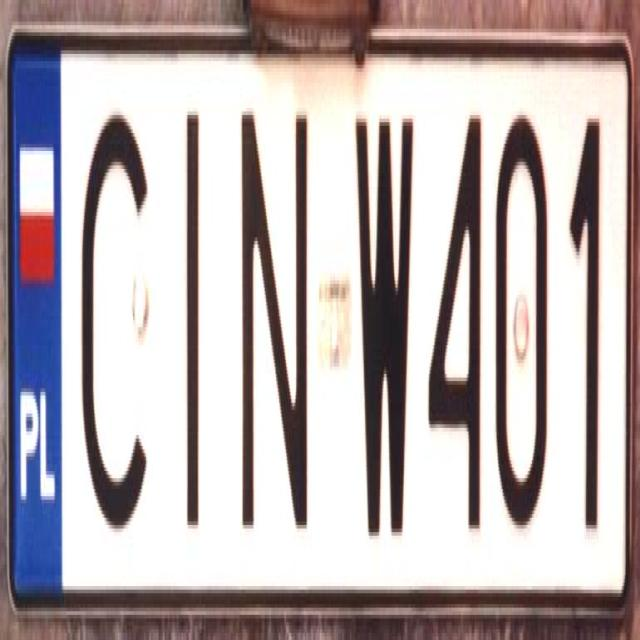pl_license_plate: (9, 36, 628, 600)
